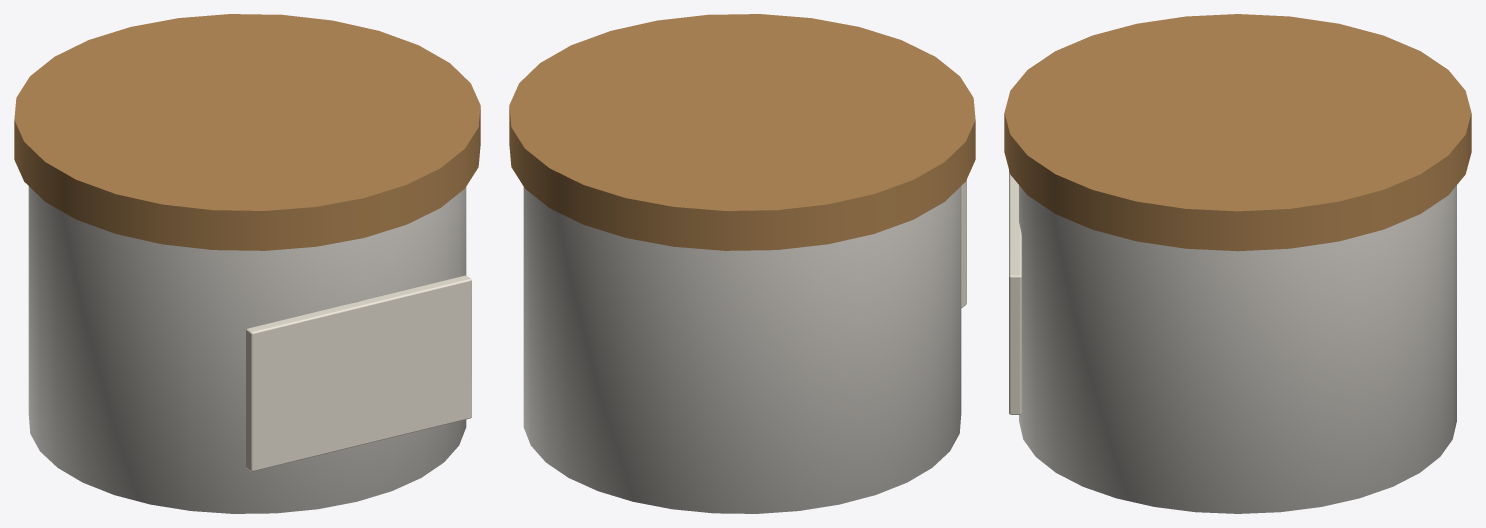
The model's file is wp-fleur-de-sel-de-guerande.glb.
3 views of the same model, side by side, from view 1: azimuth 30°, elevation 25°; view 2: azimuth 150°, elevation 25°; view 3: azimuth 270°, elevation 25° (orthographic).
Parts seen in each view (by area): view 1: wp-fleur-de-sel-de-guerande; view 2: wp-fleur-de-sel-de-guerande; view 3: wp-fleur-de-sel-de-guerande.
Part boxes in pixels (box(x1,y1,x2,y2)): wp-fleur-de-sel-de-guerande: box(14, 14, 480, 513); wp-fleur-de-sel-de-guerande: box(509, 14, 975, 513); wp-fleur-de-sel-de-guerande: box(1004, 14, 1471, 513).
Bounding box in the file's own units: 0.1 × 0.08 × 0.1.
